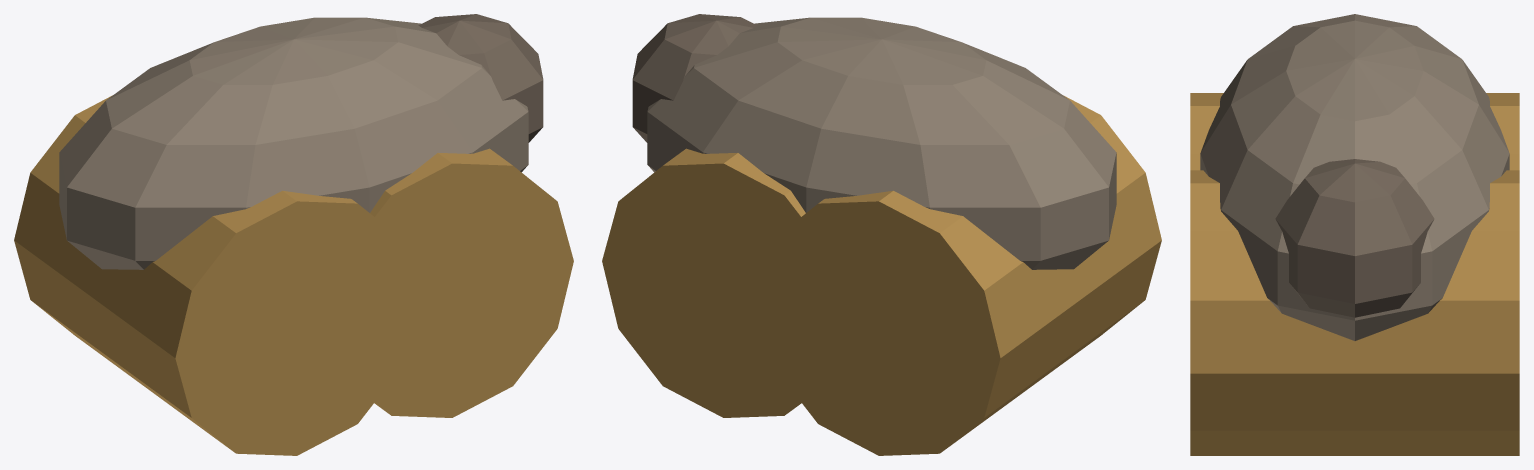
The model's file is KokBoru_Ulak.obj.
3 renders of one model, left to right at view 1: azimuth 30°, elevation 25°; view 2: azimuth 150°, elevation 25°; view 3: azimuth 270°, elevation 25°, orthographic. The views are drawn at different scales.
Parts seen in each view (by area): view 1: KokBoru_Ulak; view 2: KokBoru_Ulak; view 3: KokBoru_Ulak.
Part boxes in pixels (bbox=[...]): KokBoru_Ulak: bbox=[14, 14, 573, 455]; KokBoru_Ulak: bbox=[602, 14, 1161, 455]; KokBoru_Ulak: bbox=[1190, 14, 1519, 455].
Bounding box in the file's own units: 0.9109 × 0.625 × 0.54.
